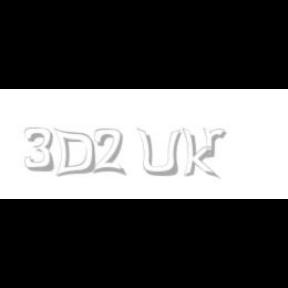2: (90, 128, 124, 176)
3: (24, 128, 56, 172)
D: (52, 128, 96, 178)
U: (136, 128, 180, 178)
k: (181, 128, 219, 180)
r: (202, 128, 230, 158)
